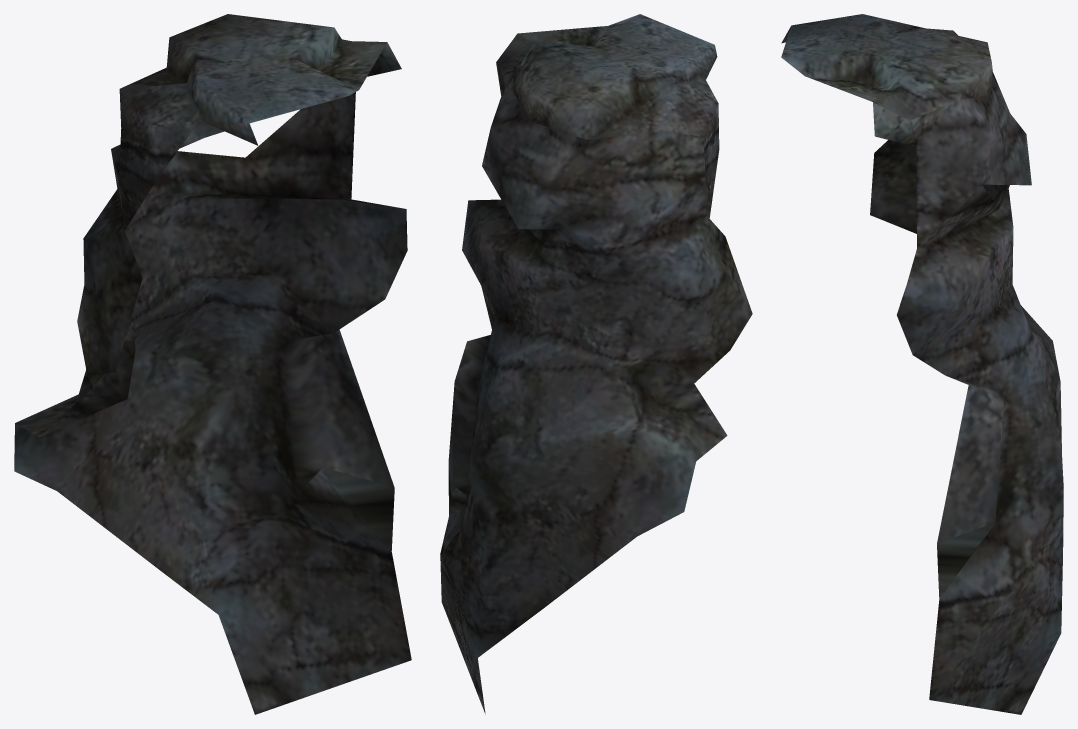
Rendered from S_Rock_Yellow034_H06.FBX.
3 views of the same model, side by side, from view 1: azimuth 30°, elevation 25°; view 2: azimuth 150°, elevation 25°; view 3: azimuth 270°, elevation 25° (orthographic). The views are drawn at different scales.
Visible parts, largest first — view 1: S_Rock_Yellow034_H06; view 2: S_Rock_Yellow034_H06; view 3: S_Rock_Yellow034_H06.
Part boxes in pixels (<box>): S_Rock_Yellow034_H06: <box>14,14,411,714</box>; S_Rock_Yellow034_H06: <box>440,14,752,714</box>; S_Rock_Yellow034_H06: <box>781,14,1063,714</box>.
Size of the model in its own units: 892 by 705 by 1772.
Materials: 1 (1 with a texture image).
